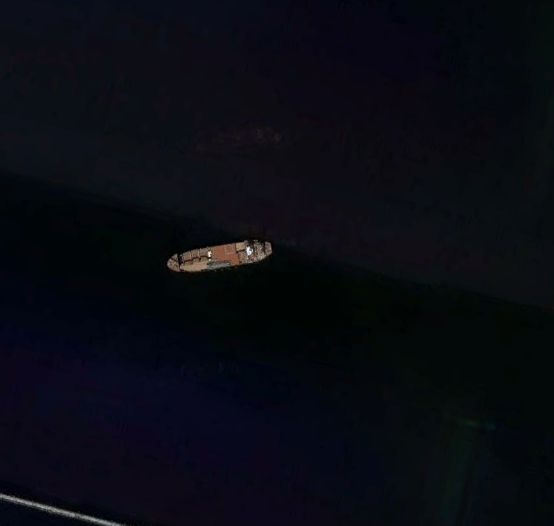boat: (164, 236, 274, 278)
